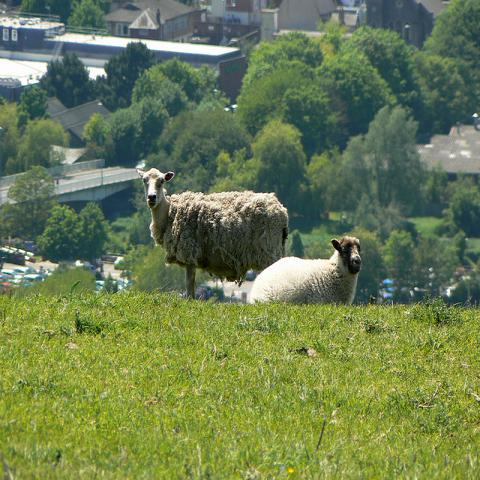car: (22, 273, 45, 286), (1, 269, 24, 279), (114, 256, 126, 270)
